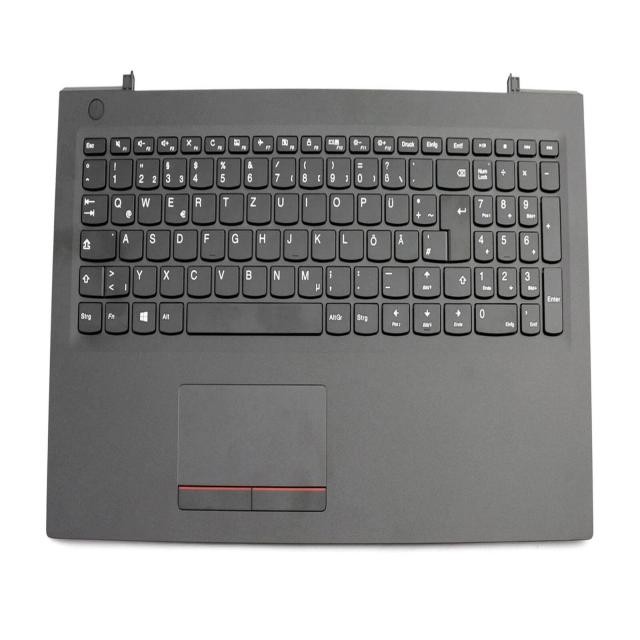0: (352, 155, 378, 187)
1: (108, 156, 132, 188)
2: (134, 156, 159, 188)
3: (161, 155, 187, 188)
4: (188, 155, 213, 188)
5: (215, 155, 240, 187)
6: (243, 155, 268, 187)
7: (271, 155, 296, 187)
8: (298, 155, 323, 187)
9: (325, 155, 351, 187)
a: (118, 227, 143, 259)
accent: (408, 156, 433, 188)
ae: (392, 227, 419, 260)
alt-left: (157, 300, 183, 333)
altgr-right: (324, 300, 351, 334)
b: (240, 263, 267, 296)
c: (185, 263, 211, 296)
caret: (81, 157, 105, 188)
comma: (324, 264, 350, 297)
d: (172, 227, 197, 260)
del: (435, 156, 470, 191)
e: (164, 190, 189, 224)
enter: (439, 191, 470, 260)
f: (199, 227, 224, 259)
g: (226, 226, 252, 259)
h: (254, 227, 280, 259)
hash: (421, 228, 446, 260)
i: (301, 191, 326, 224)
j: (282, 227, 307, 259)
k: (310, 227, 336, 260)
keyboard: (72, 127, 569, 343)
l: (337, 227, 363, 260)
less: (104, 263, 130, 296)
m: (296, 264, 323, 297)
minus: (379, 264, 409, 297)
n: (269, 263, 295, 296)
o: (328, 191, 354, 224)
oe: (365, 227, 391, 260)
p: (356, 191, 381, 224)
plus: (410, 191, 436, 224)
point: (352, 264, 378, 297)
q: (110, 191, 135, 224)
r: (190, 191, 216, 224)
s: (144, 227, 170, 260)
shift-left: (77, 263, 102, 296)
shift-lock: (78, 228, 116, 260)
shift-right: (443, 266, 472, 299)
space: (185, 300, 323, 334)
ss: (380, 156, 405, 187)
strg-left: (76, 300, 101, 332)
strg-right: (352, 300, 379, 334)
t: (218, 191, 243, 224)
tab: (80, 191, 108, 224)
u: (272, 191, 298, 224)
ue: (384, 191, 409, 224)
v: (214, 263, 239, 295)
w: (137, 191, 162, 223)
x: (158, 263, 184, 295)
y: (131, 264, 156, 296)
z: (246, 191, 271, 224)
